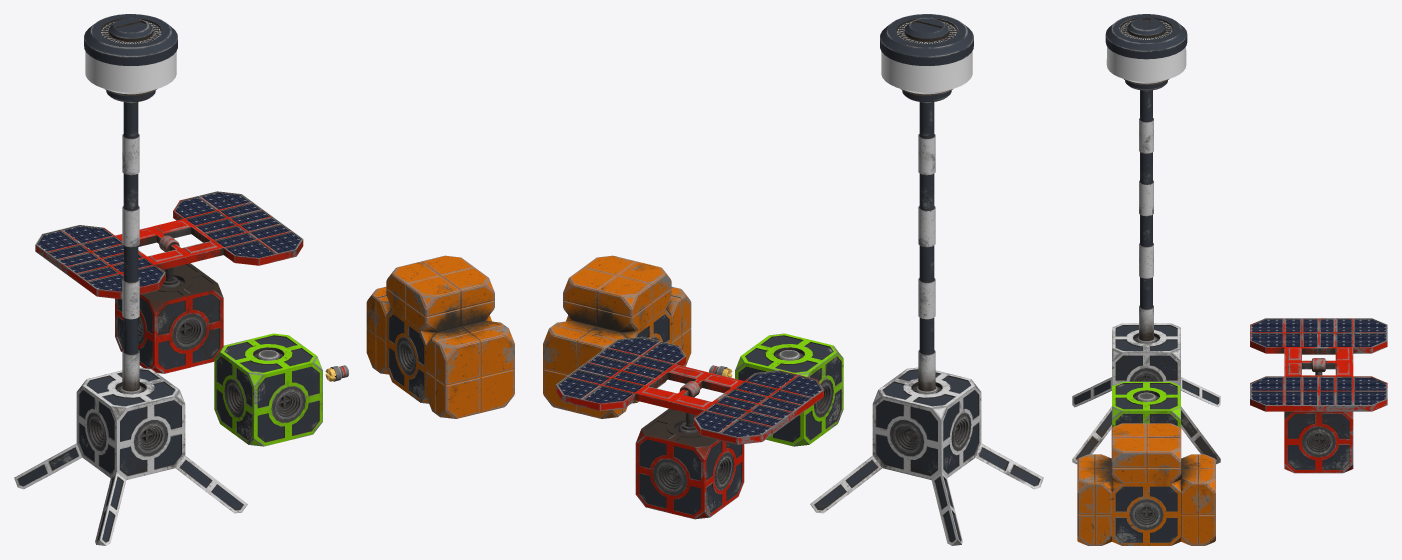
Rendered from power_stuff_set_1.glb.
3 renders of one model, left to right at view 1: azimuth 30°, elevation 25°; view 2: azimuth 150°, elevation 25°; view 3: azimuth 270°, elevation 25°, orthographic. The views are drawn at different scales.
Parts seen in each view (by area): view 1: 4wayJunctionBox.001, batteryBox, solarPanel, 4wayJunctionBox, solarPanelBox; view 2: 4wayJunctionBox.001, solarPanel, batteryBox, solarPanelBox, 4wayJunctionBox; view 3: 4wayJunctionBox.001, batteryBox, solarPanel, solarPanelBox, 4wayJunctionBox.
Boxes of the visible parts, x1,y1,x2,y2 form: 4wayJunctionBox.001: (14, 14, 247, 545); batteryBox: (366, 255, 514, 418); solarPanel: (35, 191, 303, 299); 4wayJunctionBox: (214, 333, 322, 446); solarPanelBox: (115, 263, 223, 373); 4wayJunctionBox.001: (810, 14, 1043, 545); solarPanel: (556, 336, 823, 444); batteryBox: (543, 255, 691, 418); solarPanelBox: (635, 408, 744, 519); 4wayJunctionBox: (735, 333, 843, 446); 4wayJunctionBox.001: (1072, 14, 1220, 464); batteryBox: (1077, 423, 1215, 545); solarPanel: (1250, 318, 1387, 411); solarPanelBox: (1284, 411, 1353, 473); 4wayJunctionBox: (1112, 381, 1180, 427).
Size of the model in its own units: 12.17 by 13.13 by 9.15.
2 materials, 2 textured.
